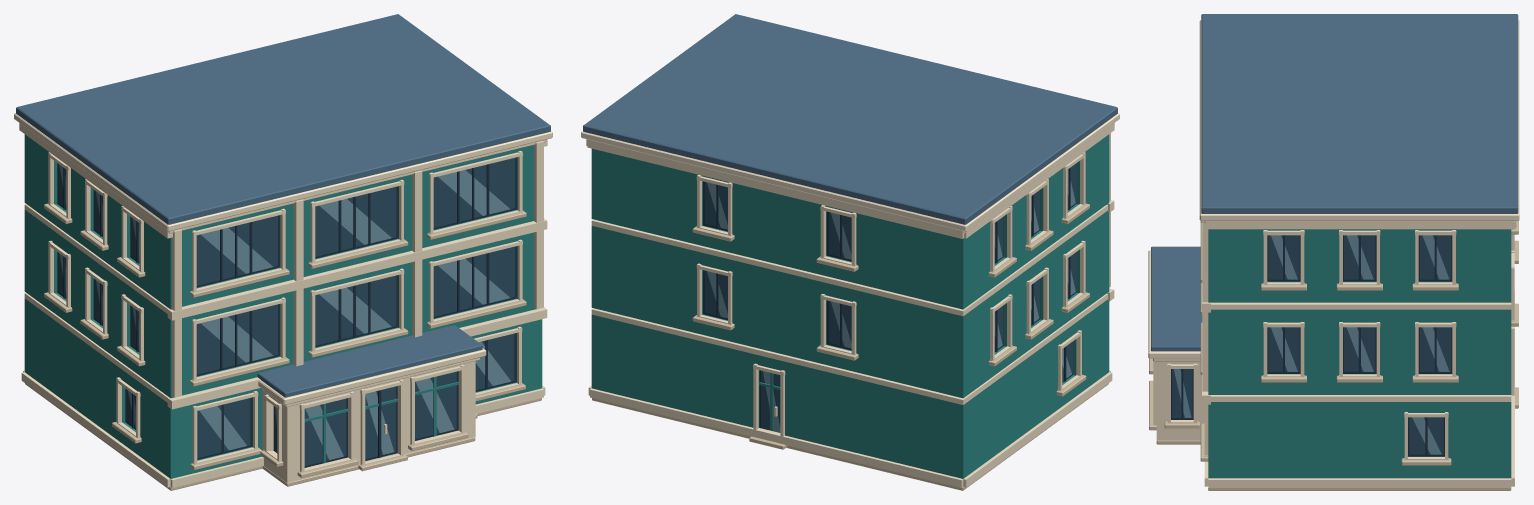
Rendered from teal_glass_office.glb.
The picture shows the model from 3 angles, left to right: view 1: azimuth 30°, elevation 25°; view 2: azimuth 150°, elevation 25°; view 3: azimuth 270°, elevation 25°; orthographic projection. The views are drawn at different scales.
Parts seen in each view (by area): view 1: TealGlassOffice_StaticMesh; view 2: TealGlassOffice_StaticMesh; view 3: TealGlassOffice_StaticMesh.
Part boxes in pixels (x1=…): TealGlassOffice_StaticMesh: x1=14, y1=14, x2=552, y2=490; TealGlassOffice_StaticMesh: x1=581, y1=14, x2=1119, y2=490; TealGlassOffice_StaticMesh: x1=1148, y1=14, x2=1519, y2=490.
Size of the model in its own units: 14.32 by 9.81 by 11.52.
